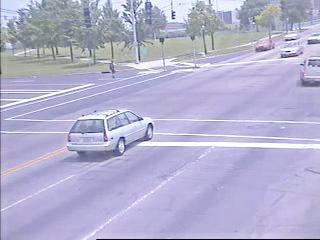Car: (66, 107, 155, 156), (301, 55, 320, 87), (281, 40, 304, 57), (255, 38, 276, 52), (307, 32, 320, 44), (284, 32, 299, 41)
Not Accident: (276, 29, 320, 89)
